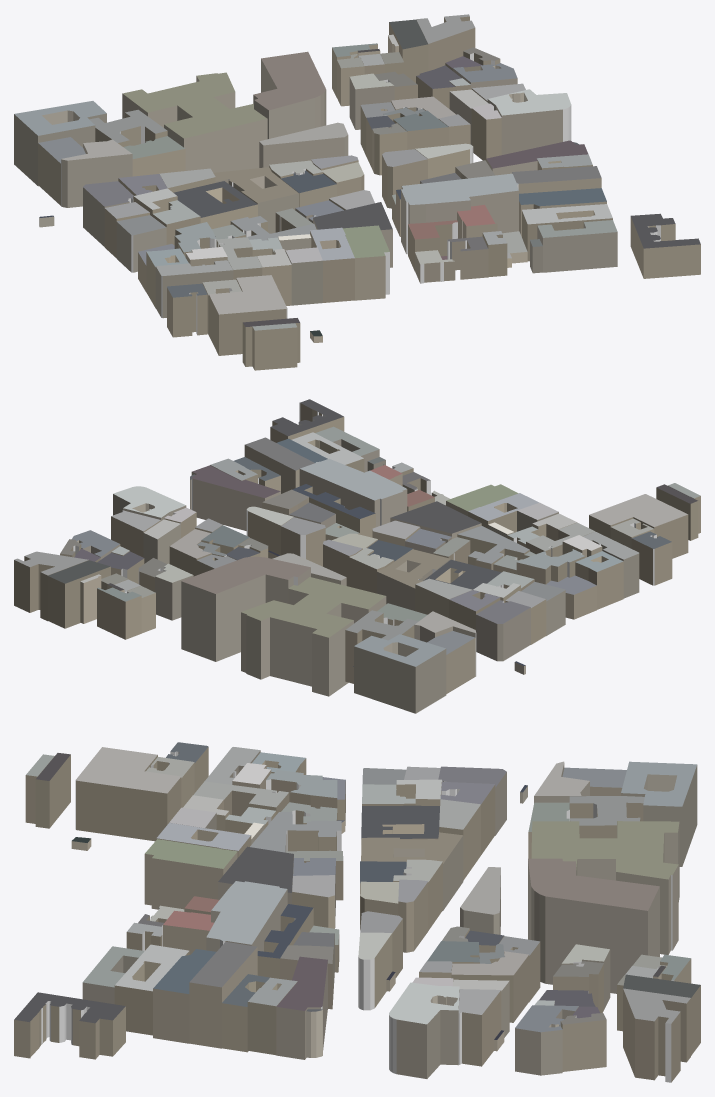
The picture shows the model from 3 angles, top to bottom: view 1: azimuth 30°, elevation 25°; view 2: azimuth 150°, elevation 25°; view 3: azimuth 270°, elevation 25°; orthographic projection. The views are drawn at different scales.
Parts seen in each view (by area): view 1: tuile; view 2: tuile; view 3: tuile.
Boxes of the visible parts, <box> form: tuile: <box>14,14,700,370</box>; tuile: <box>14,399,700,713</box>; tuile: <box>14,742,700,1082</box>.
Size of the model in its own units: 271 by 37.71 by 269.
